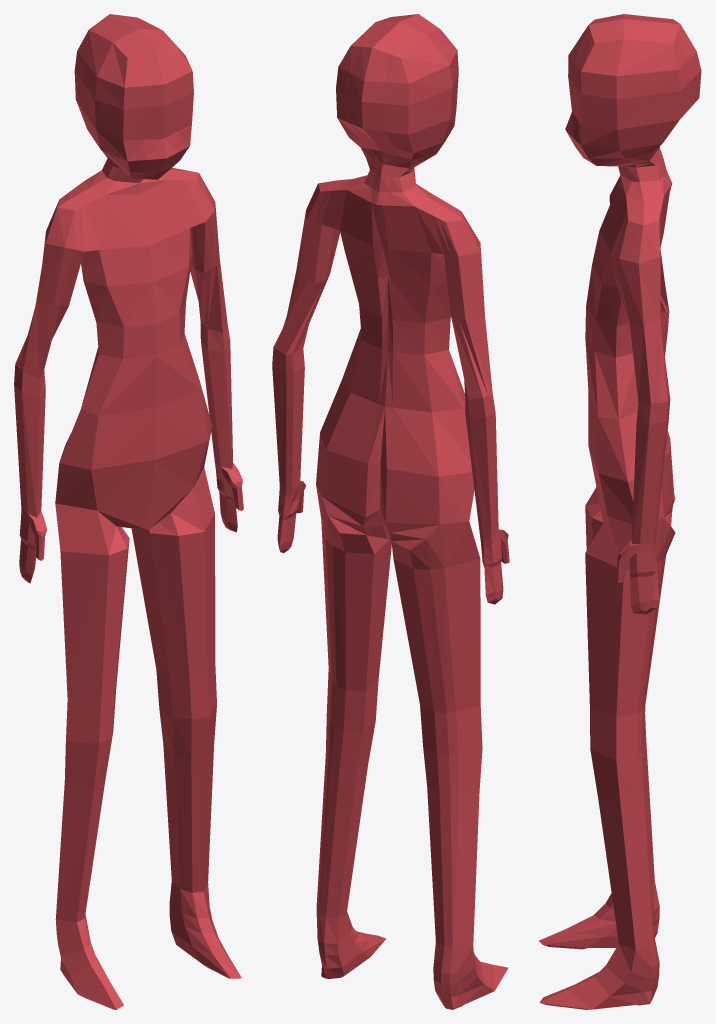
Rendered from human.glb.
3 renders of one model, left to right at view 1: azimuth 30°, elevation 25°; view 2: azimuth 150°, elevation 25°; view 3: azimuth 270°, elevation 25°, orthographic. The views are drawn at different scales.
Bounding box in the file's own units: 0.0474 × 0.2 × 0.0309.
